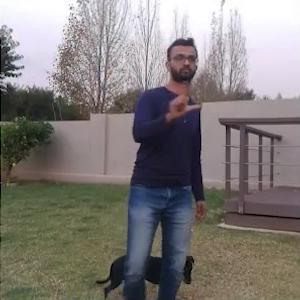land_hand: (161, 77, 200, 115)
